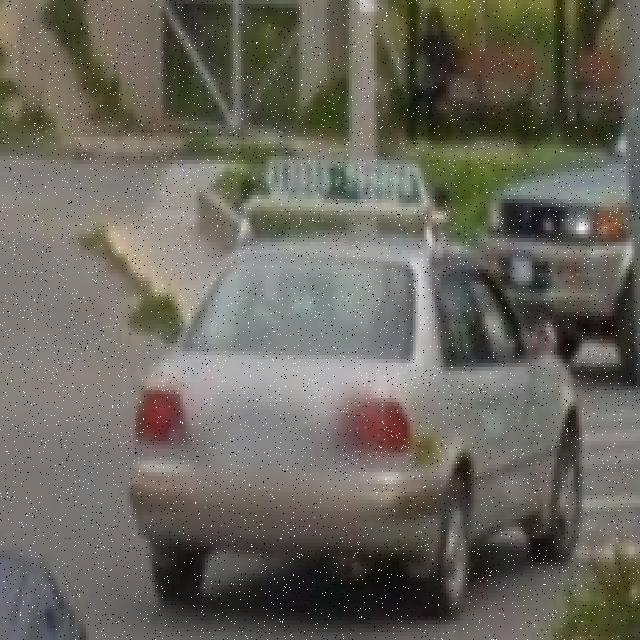cars: (135, 243, 581, 626)
